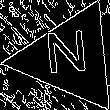N_S: (45, 31, 94, 85)
